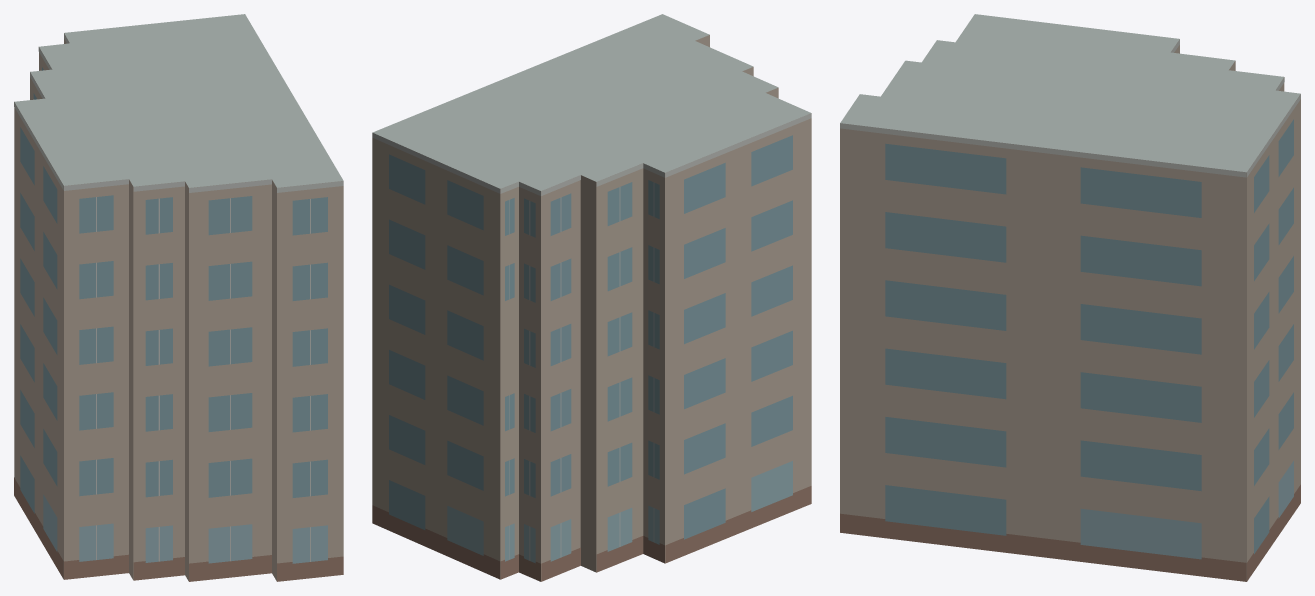
File: survey-upis-32592601.glb
3 views of the same model, side by side, from view 1: azimuth 30°, elevation 25°; view 2: azimuth 150°, elevation 25°; view 3: azimuth 270°, elevation 25° (orthographic). The views are drawn at different scales.
Parts seen in each view (by area): view 1: survey-upis-32592601.tmp; view 2: survey-upis-32592601.tmp; view 3: survey-upis-32592601.tmp.
Boxes of the visible parts, x1,y1,x2,y2 form: survey-upis-32592601.tmp: (14,14,343,581); survey-upis-32592601.tmp: (372,14,811,581); survey-upis-32592601.tmp: (840,14,1300,581).
Bounding box in the file's own units: 15.59 × 18.8 × 19.18.
